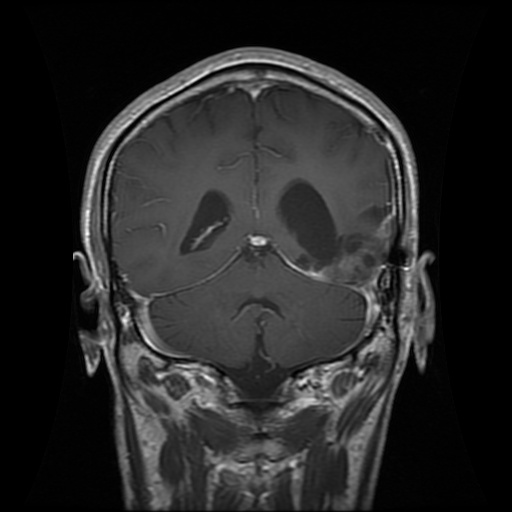glioma: (273, 176, 399, 293)
